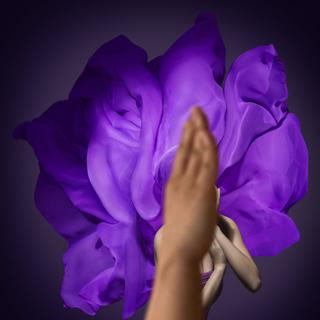RIGHT: (158, 103, 230, 278)
